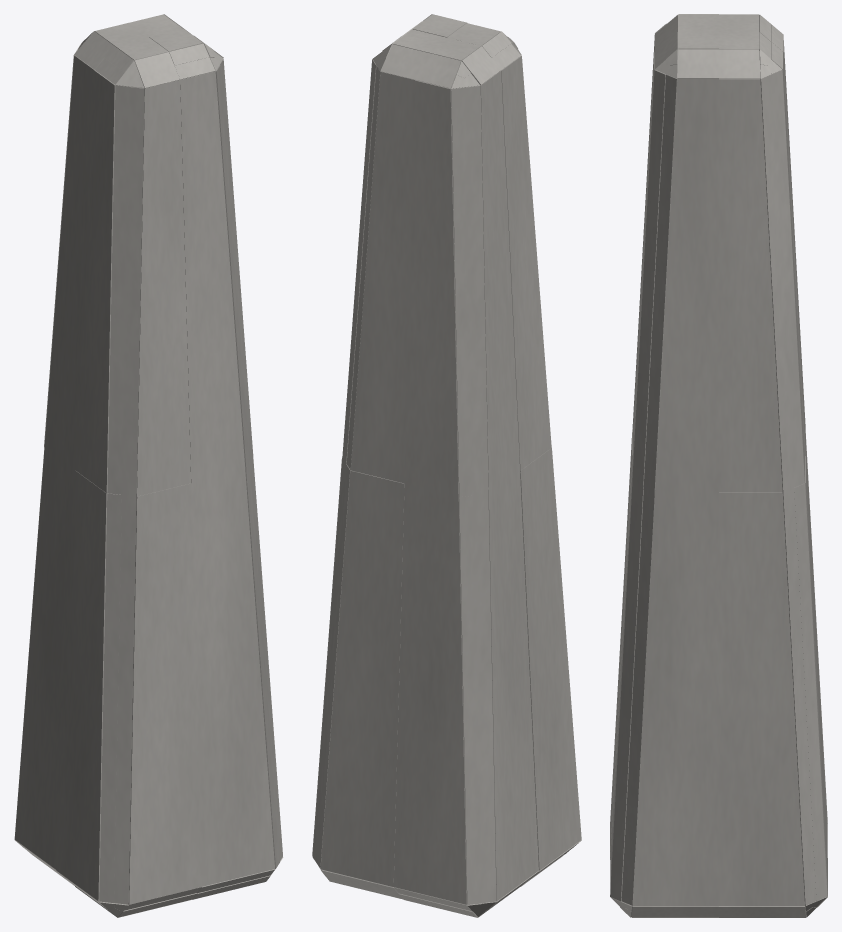
3 renders of one model, left to right at view 1: azimuth 30°, elevation 25°; view 2: azimuth 150°, elevation 25°; view 3: azimuth 270°, elevation 25°, orthographic. The views are drawn at different scales.
Visible parts, largest first — view 1: 기둥_구움; view 2: 기둥_구움; view 3: 기둥_구움.
Boxes of the visible parts, <box> form: 기둥_구움: <box>14,14,283,917</box>; 기둥_구움: <box>312,14,581,917</box>; 기둥_구움: <box>610,14,827,917</box>.
Size of the model in its own units: 0.7014 by 3.01 by 0.6991.
1 material, 1 textured.
